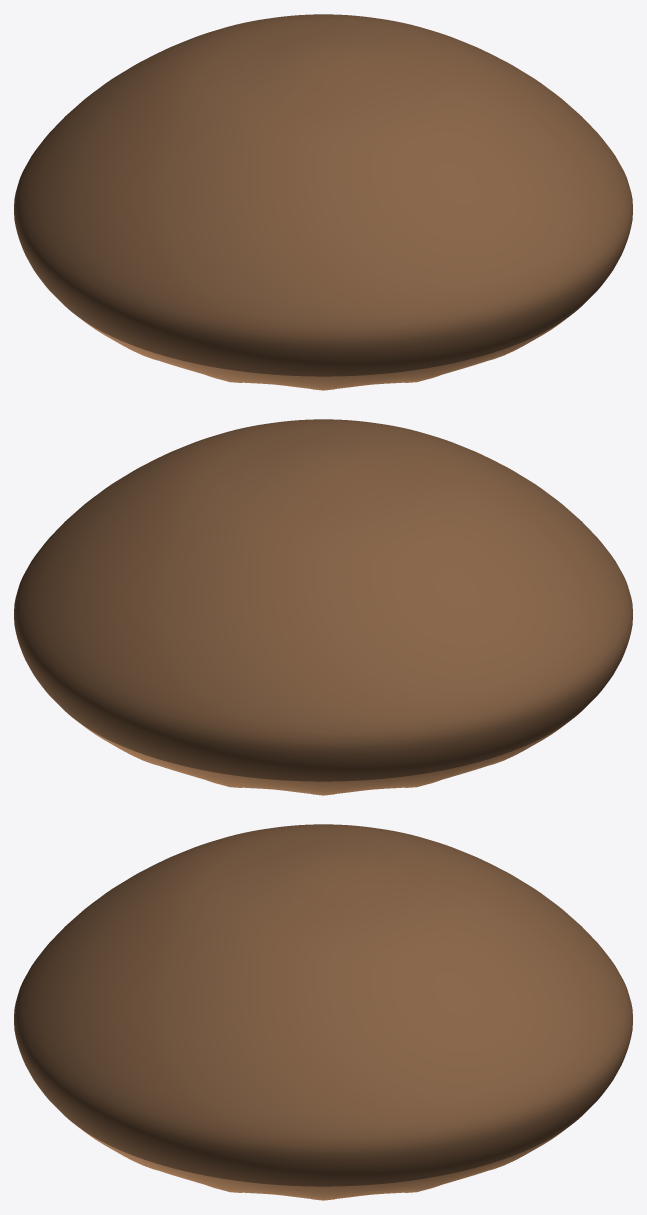
Rendered from mushroom.fbx.
The picture shows the model from 3 angles, top to bottom: view 1: azimuth 30°, elevation 25°; view 2: azimuth 150°, elevation 25°; view 3: azimuth 270°, elevation 25°; orthographic projection.
Visible parts, largest first — view 1: Cylinder; view 2: Cylinder; view 3: Cylinder.
Boxes of the visible parts, x1,y1,x2,y2 form: Cylinder: (14,14,632,390); Cylinder: (14,419,632,795); Cylinder: (14,824,632,1200).
Size of the model in its own units: 194 by 97.53 by 194.
